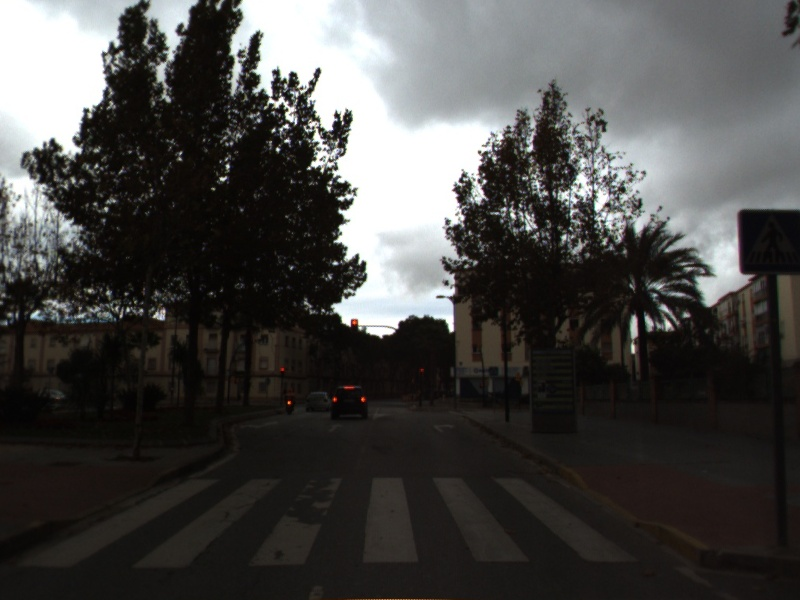RIGHT: (431, 421, 458, 435)
STRAIGHT: (325, 421, 345, 434)
STRAIGHT_LEFT: (237, 418, 281, 431)
